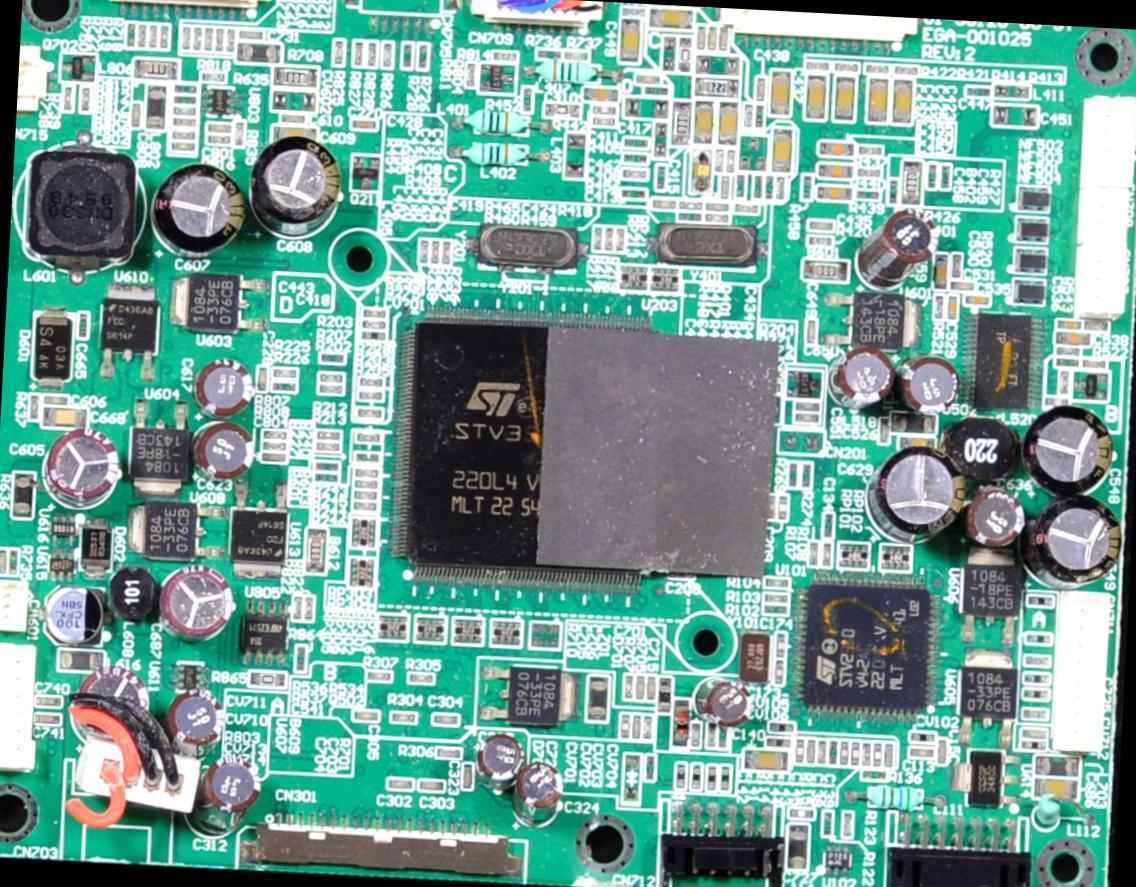Capacitor: (1071, 370, 1112, 402), (991, 103, 1040, 129), (832, 74, 858, 122), (890, 77, 915, 125), (866, 77, 891, 124), (771, 126, 796, 172), (804, 74, 829, 120), (42, 406, 89, 430), (1032, 778, 1079, 801), (769, 70, 792, 117), (617, 18, 641, 63), (744, 750, 789, 772), (649, 7, 693, 28), (694, 100, 714, 144), (719, 102, 739, 145), (817, 183, 854, 203), (817, 162, 854, 181), (933, 253, 950, 291), (272, 125, 318, 139), (819, 140, 854, 158), (1055, 331, 1093, 346), (545, 103, 582, 117), (899, 435, 936, 448), (964, 293, 992, 308), (809, 218, 835, 234), (788, 808, 816, 822), (43, 394, 70, 408), (965, 85, 992, 99), (879, 416, 892, 445), (352, 117, 378, 131), (654, 163, 667, 191), (777, 494, 790, 521), (936, 739, 949, 766), (388, 778, 413, 792), (705, 200, 734, 212), (592, 104, 618, 117), (432, 715, 460, 727), (623, 136, 648, 149), (652, 198, 677, 211), (239, 29, 264, 42), (419, 779, 444, 792), (947, 295, 959, 322), (718, 25, 730, 52), (257, 366, 269, 393), (261, 452, 288, 464), (823, 512, 835, 539), (795, 739, 807, 766), (909, 748, 935, 760), (871, 743, 884, 767), (839, 742, 851, 768), (621, 188, 646, 200), (951, 281, 976, 293), (37, 696, 62, 708), (696, 25, 707, 52), (282, 114, 308, 125), (132, 102, 143, 128), (928, 163, 939, 189), (889, 178, 900, 204), (806, 740, 817, 766), (828, 741, 839, 767), (463, 764, 474, 790), (806, 320, 817, 345), (646, 676, 657, 701), (850, 742, 861, 767), (755, 77, 766, 102), (79, 312, 89, 339), (624, 153, 648, 164), (171, 141, 195, 152), (361, 330, 385, 341), (884, 743, 895, 767), (36, 714, 60, 725), (707, 26, 717, 50), (354, 712, 378, 722)
Connector: (257, 814, 508, 873), (1072, 97, 1135, 319), (656, 801, 786, 887), (884, 813, 1031, 887), (1053, 592, 1111, 754), (726, 8, 915, 43), (0, 643, 42, 773), (471, 0, 605, 34), (0, 580, 31, 633), (95, 0, 274, 8), (779, 428, 826, 455)
IC: (395, 312, 779, 598), (790, 579, 940, 725), (962, 314, 1043, 410), (171, 272, 269, 335), (99, 284, 161, 380), (822, 292, 922, 351), (959, 649, 1016, 750), (129, 503, 226, 561), (964, 549, 1021, 643), (130, 401, 192, 484), (231, 481, 288, 565), (952, 748, 1021, 807), (241, 600, 290, 667), (202, 85, 245, 117), (823, 842, 855, 878), (170, 663, 211, 690), (51, 512, 76, 546), (50, 549, 75, 582)
Resistor: (869, 788, 924, 811), (12, 474, 34, 518), (238, 44, 280, 64), (251, 674, 285, 688), (664, 37, 678, 70), (401, 42, 416, 72), (678, 38, 691, 71), (786, 460, 800, 490), (521, 85, 535, 114), (622, 167, 649, 182), (800, 173, 814, 201), (820, 541, 834, 569), (366, 40, 380, 68), (416, 43, 430, 71), (381, 41, 395, 69), (352, 40, 366, 68), (705, 211, 732, 225), (808, 235, 835, 249), (262, 428, 289, 442), (951, 252, 964, 281), (800, 461, 813, 490), (857, 144, 883, 158), (357, 407, 383, 421), (233, 120, 246, 147), (855, 188, 882, 201), (933, 295, 946, 322), (315, 441, 342, 454), (833, 61, 860, 74), (765, 576, 792, 589), (333, 40, 346, 67), (822, 811, 835, 838), (172, 116, 198, 129), (733, 201, 759, 214), (1056, 345, 1082, 358), (358, 388, 384, 401), (354, 468, 380, 481), (353, 500, 379, 513), (864, 63, 890, 76), (622, 5, 648, 18), (465, 63, 478, 89), (841, 812, 854, 838), (855, 167, 883, 179), (206, 134, 234, 146), (563, 50, 591, 62), (292, 595, 304, 623), (295, 645, 307, 673), (623, 674, 635, 702), (199, 71, 227, 83), (172, 128, 197, 141), (273, 367, 298, 380), (319, 371, 344, 384), (80, 86, 92, 113), (676, 212, 703, 224), (593, 224, 605, 251), (29, 394, 41, 421), (353, 479, 380, 491), (492, 50, 519, 62), (635, 674, 647, 701), (62, 85, 74, 111), (172, 105, 198, 117), (358, 377, 384, 389), (316, 429, 342, 441), (356, 452, 380, 465), (314, 461, 340, 473), (126, 21, 138, 47), (159, 23, 171, 49), (763, 604, 789, 616), (303, 596, 315, 622), (409, 673, 435, 685), (817, 740, 829, 766), (171, 94, 199, 105), (173, 83, 198, 95), (440, 240, 452, 265), (272, 380, 297, 392), (147, 23, 159, 48), (367, 671, 392, 683), (614, 226, 625, 253), (419, 238, 430, 265), (353, 490, 380, 501), (893, 64, 920, 75), (8, 549, 19, 576), (319, 353, 345, 364), (356, 432, 382, 443), (262, 441, 288, 452), (764, 593, 790, 604), (604, 225, 614, 253), (319, 384, 344, 395), (315, 472, 340, 483), (537, 48, 562, 59), (809, 541, 820, 566), (862, 770, 887, 781), (861, 742, 872, 766), (430, 239, 440, 265), (680, 199, 703, 210), (363, 319, 386, 330), (807, 61, 830, 72), (391, 713, 416, 723), (363, 308, 385, 319), (137, 22, 147, 46), (193, 26, 203, 50), (941, 163, 950, 189), (593, 117, 616, 127), (215, 28, 225, 51), (182, 26, 192, 49), (203, 29, 213, 51), (437, 749, 461, 758), (227, 29, 236, 52)
Transistor: (479, 62, 518, 95), (59, 53, 98, 85), (351, 153, 381, 192), (787, 369, 823, 398)
